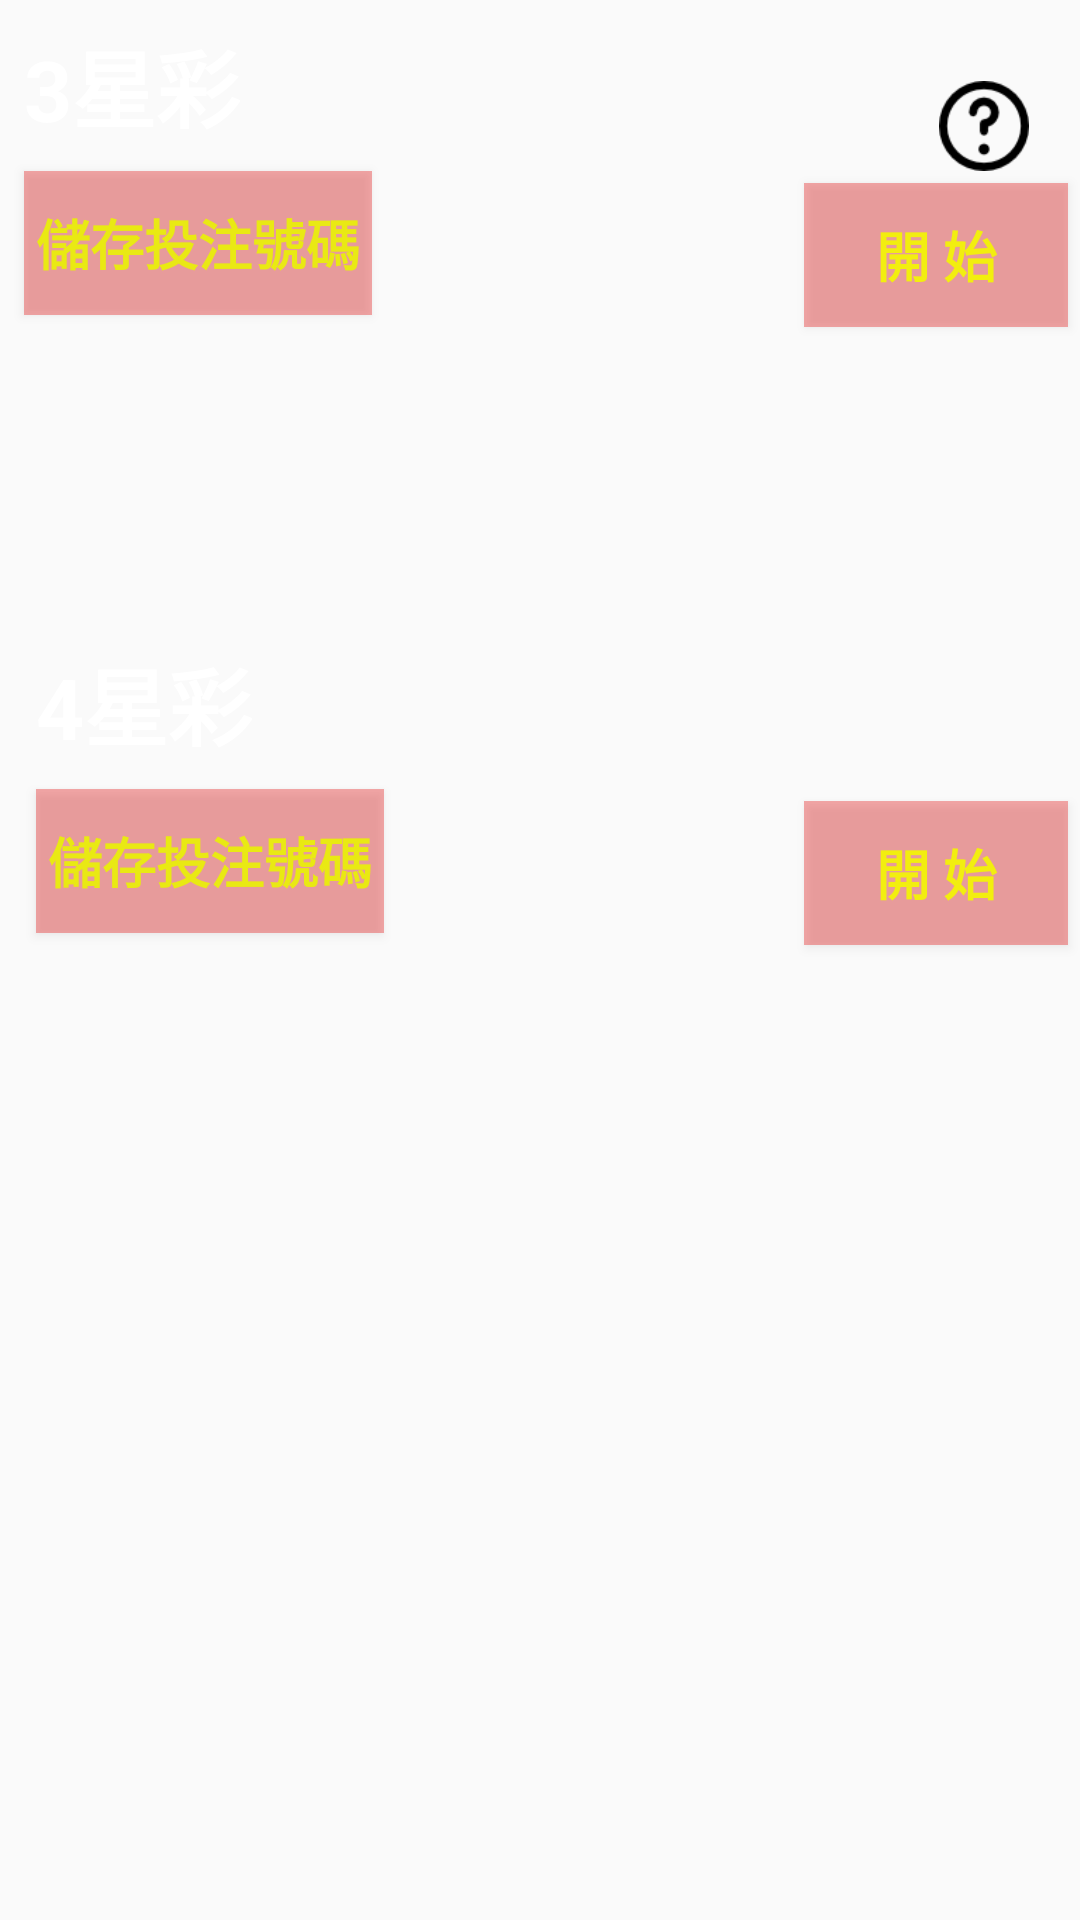

Icons on this 1080 x 1920 Android screen, each with the point to tap as [x,y]:
help: [984,126]
